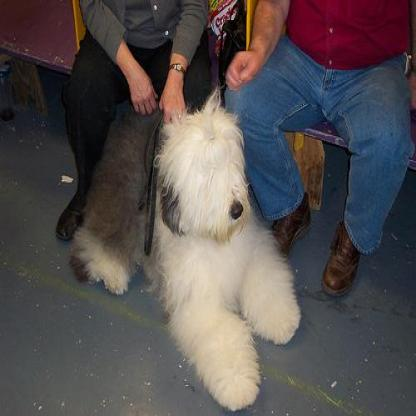Old_English_sheepdog: (69, 94, 302, 411)
